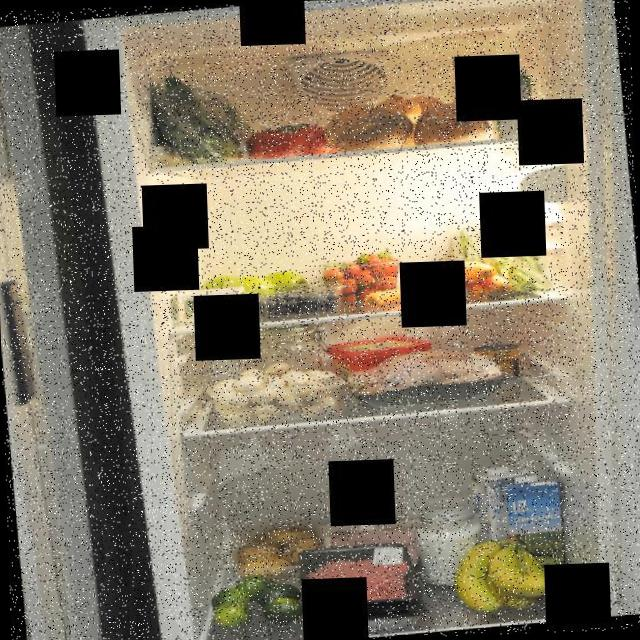Carne pollo: (334, 338, 512, 416)
Carne vacuno: (294, 539, 428, 627)
Cebolla: (373, 87, 448, 126)
Champiñones: (202, 362, 339, 428)
Leche: (498, 469, 576, 592), (471, 460, 541, 572)
Mantequilla: (323, 332, 437, 386)
Manzana: (196, 266, 316, 317)
Patata: (222, 518, 327, 582)
Plátano: (450, 538, 588, 618)
Queso: (176, 282, 248, 326)
Tomate: (243, 120, 337, 160)
Zanahoria: (428, 254, 522, 306), (358, 281, 432, 311)
blueberries: (250, 281, 341, 318)
corn: (472, 342, 524, 386)
flour: (240, 322, 324, 399)
green_beans: (436, 202, 549, 304)
heavy_cream: (488, 62, 536, 140)
spinach: (137, 48, 256, 175)
strawberries: (320, 249, 402, 301)
sugar: (404, 497, 494, 589), (447, 57, 518, 138)
sweet_potato: (324, 94, 494, 159)
